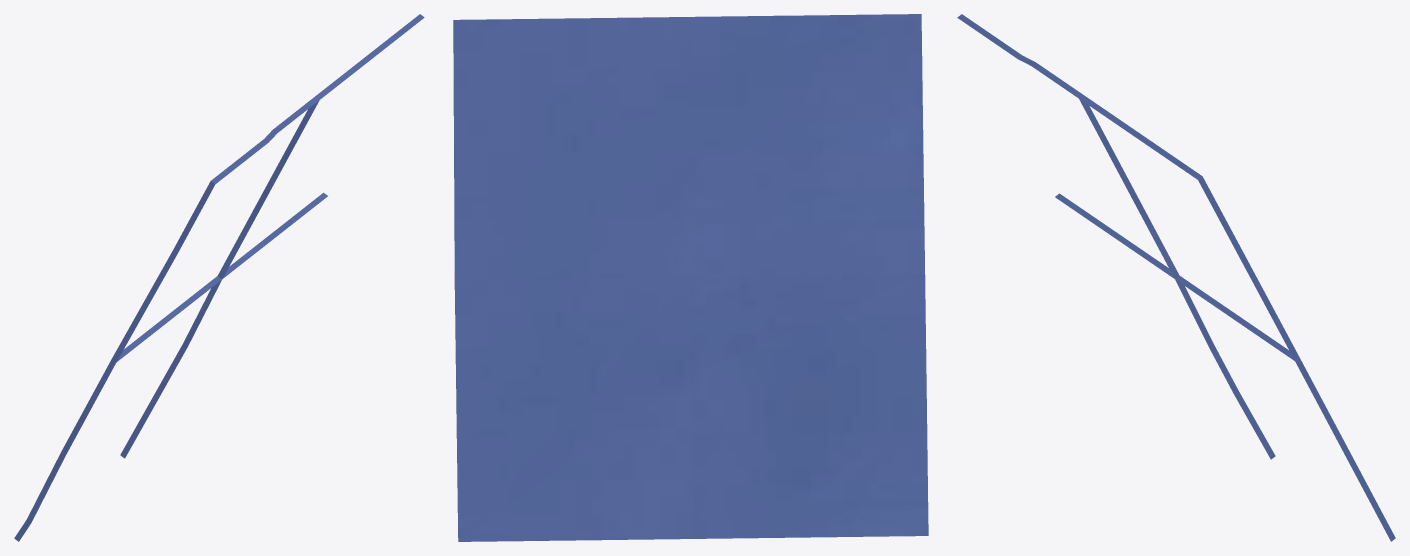
3 renders of one model, left to right at view 1: azimuth 30°, elevation 25°; view 2: azimuth 150°, elevation 25°; view 3: azimuth 270°, elevation 25°, orthographic. The views are drawn at different scales.
Bounding box in the file's own units: 19668 × 17661 × 16964.
Materials: 1 (1 with a texture image).
